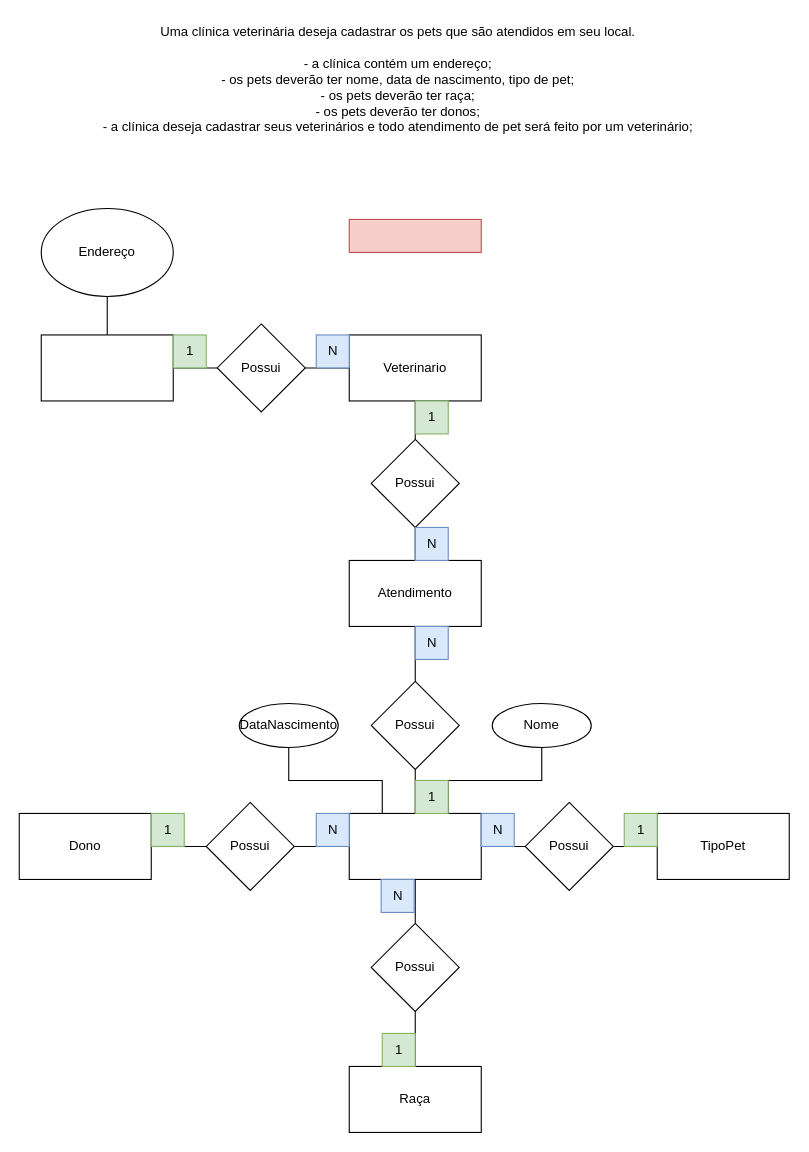
The diagram is 809 pixels wide and 1152 high, and some of its shapes have lost their labels. Here are the shapes that lost their labels. From the top down, the centre of each, then its label:
the point at 414,235: Conceitual
the point at 106,367: Clínica
the point at 414,845: Pet
